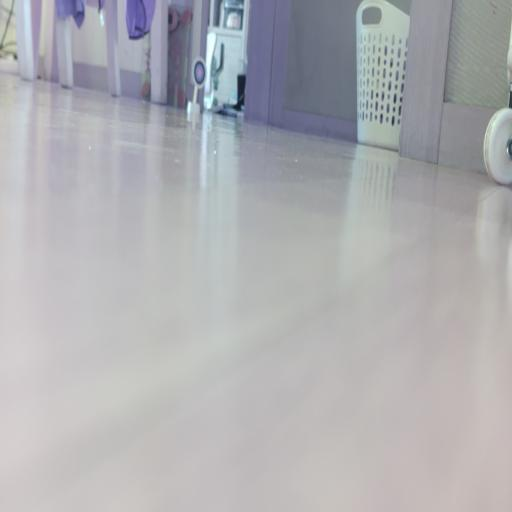target: (192, 58, 205, 88)
